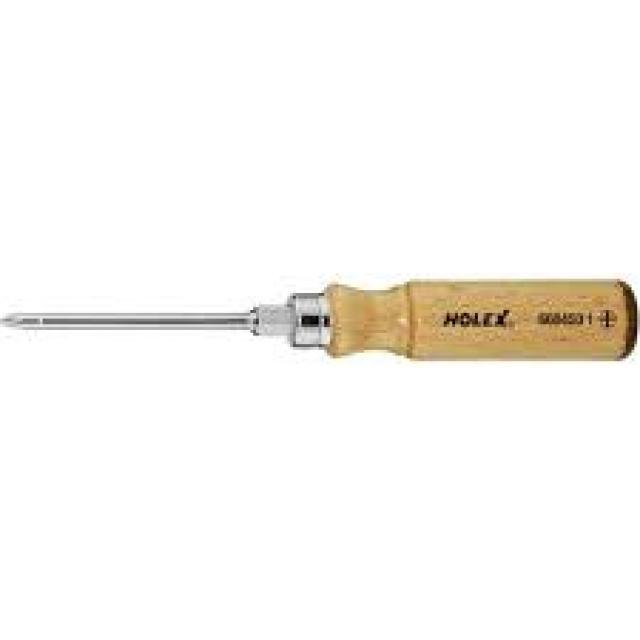screwdriver: (0, 214, 640, 298)
